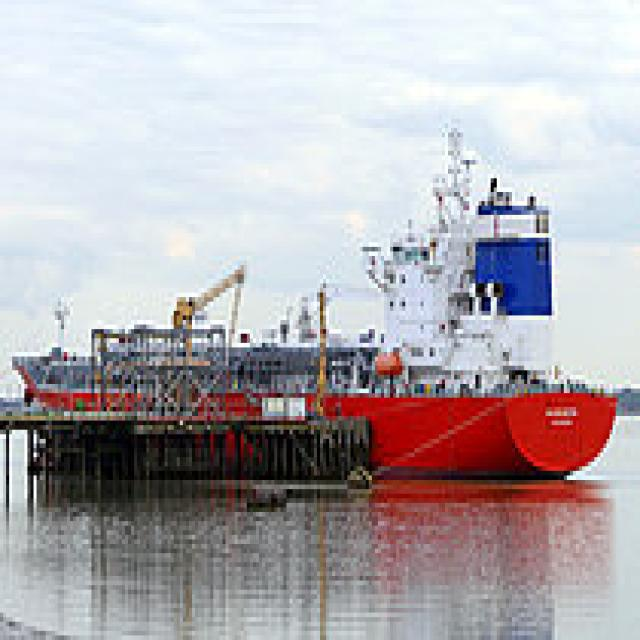Tanker: (6, 123, 616, 476)
